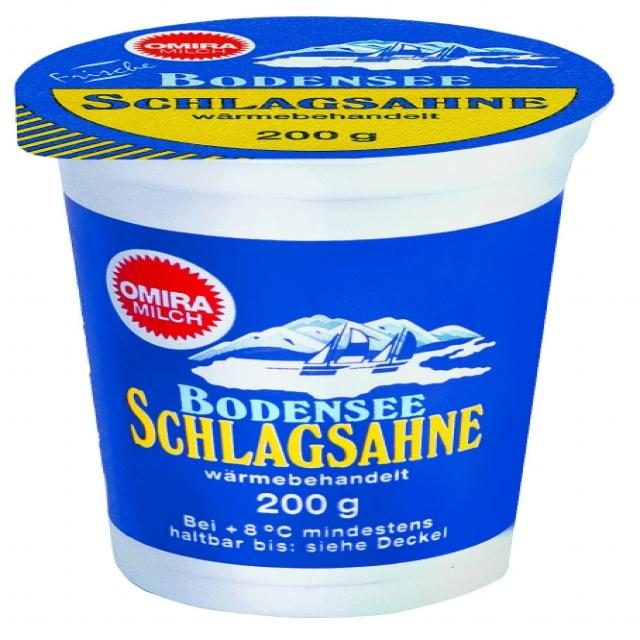cream: (14, 16, 613, 617)
